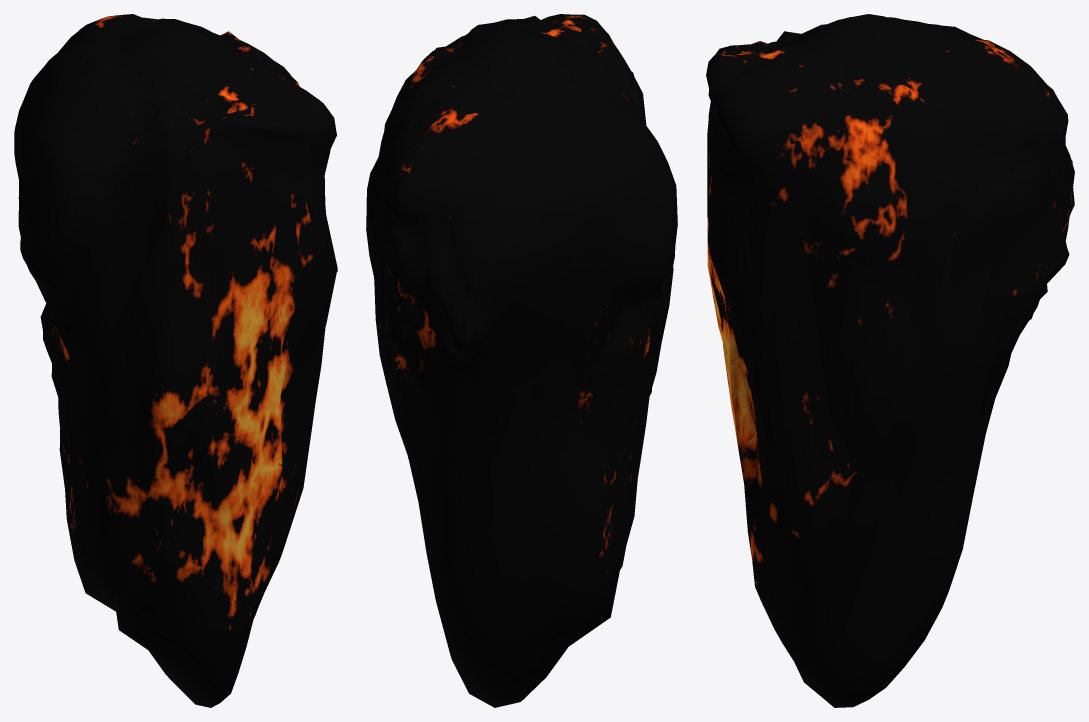
The model's file is monumentlava1.fbx.
3 views of the same model, side by side, from view 1: azimuth 30°, elevation 25°; view 2: azimuth 150°, elevation 25°; view 3: azimuth 270°, elevation 25° (orthographic).
Visible parts, largest first — view 1: rocks_01_model; view 2: rocks_01_model; view 3: rocks_01_model.
Boxes of the visible parts, x1,y1,x2,y2 form: rocks_01_model: (14,14,337,707); rocks_01_model: (366,14,677,707); rocks_01_model: (706,14,1074,707).
Size of the model in its own units: 4783 by 11091 by 5514.
Materials: 1 (1 with a texture image).
